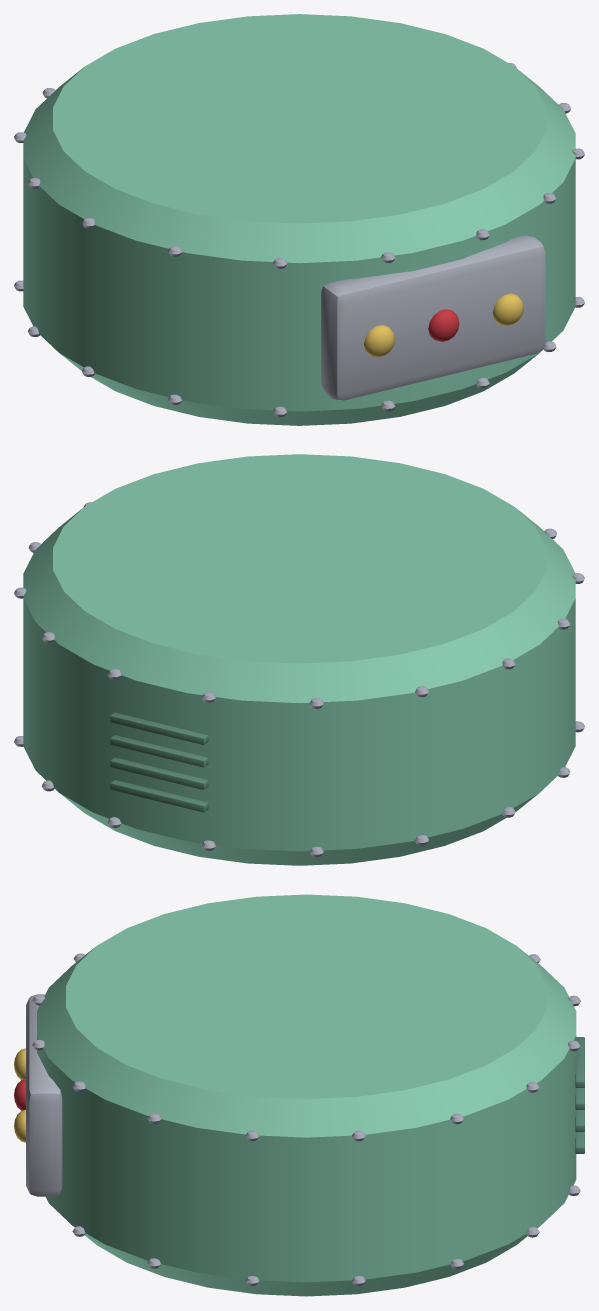
Rendered from Bot_Plate_0.fbx.
The picture shows the model from 3 angles, top to bottom: view 1: azimuth 30°, elevation 25°; view 2: azimuth 150°, elevation 25°; view 3: azimuth 270°, elevation 25°; orthographic projection. The views are drawn at different scales.
Visible parts, largest first — view 1: Bot_Plate_0; view 2: Bot_Plate_0; view 3: Bot_Plate_0.
Part boxes in pixels (x1=…): Bot_Plate_0: x1=14, y1=14, x2=584, y2=425; Bot_Plate_0: x1=14, y1=454, x2=584, y2=865; Bot_Plate_0: x1=14, y1=894, x2=584, y2=1296.
Bounding box in the file's own units: 0.2268 × 0.09 × 0.2359.
